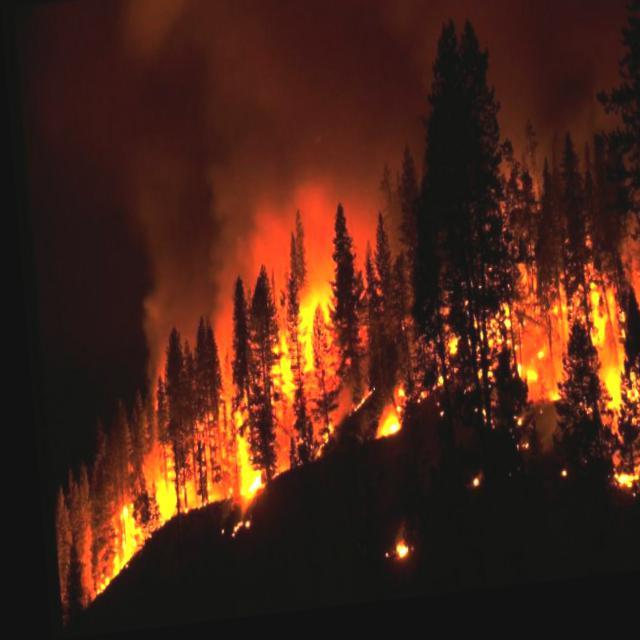Fire: (58, 300, 346, 594), (356, 239, 639, 525)
